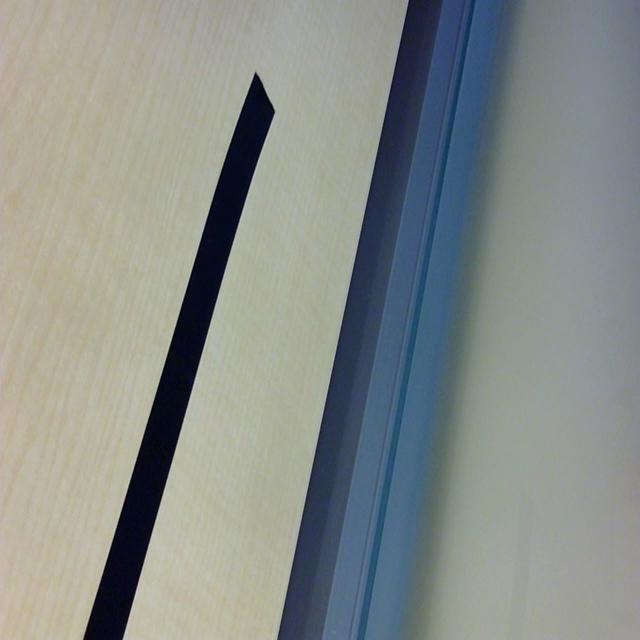tape: (83, 66, 276, 640)
